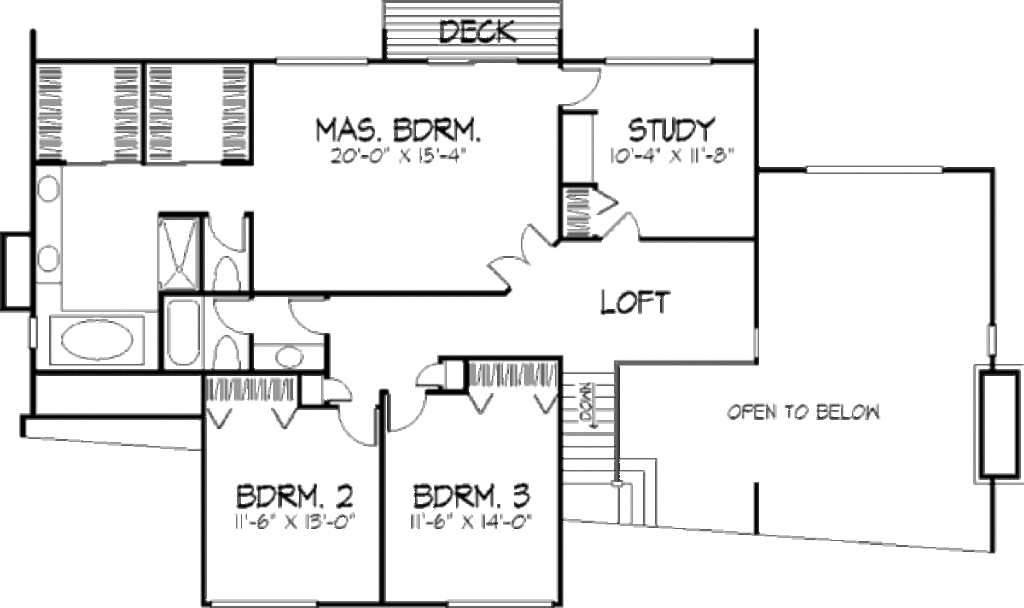door: (486, 214, 557, 294), (287, 290, 335, 340), (555, 61, 600, 109), (411, 358, 474, 391), (209, 294, 258, 334), (209, 209, 251, 252), (600, 202, 642, 245), (338, 409, 378, 450), (384, 390, 424, 430), (316, 367, 355, 407)
large_sink: (203, 332, 247, 372), (205, 251, 248, 291)
small_sink: (37, 161, 66, 281)
stairs: (561, 360, 664, 531)
tub: (42, 304, 155, 376), (161, 297, 203, 373)
window: (272, 53, 370, 72), (806, 163, 942, 175), (209, 595, 324, 608), (446, 597, 567, 608), (599, 55, 711, 63)
